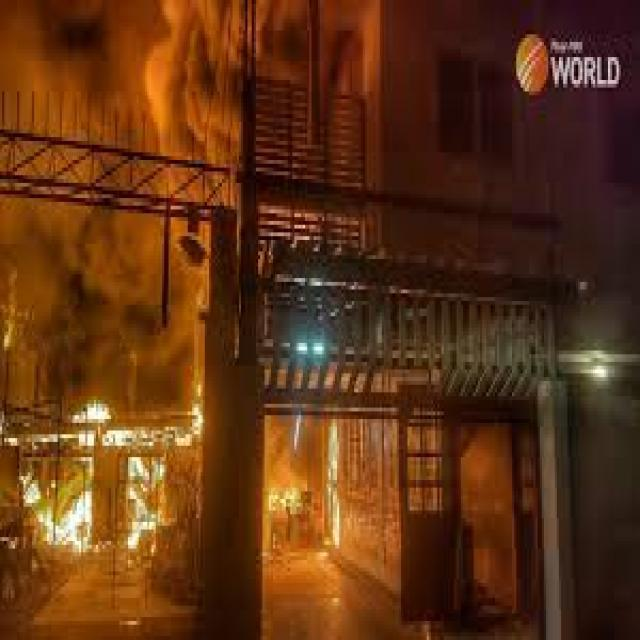Fire: (3, 402, 201, 558)
Smoke: (2, 188, 210, 418), (4, 1, 246, 160)
